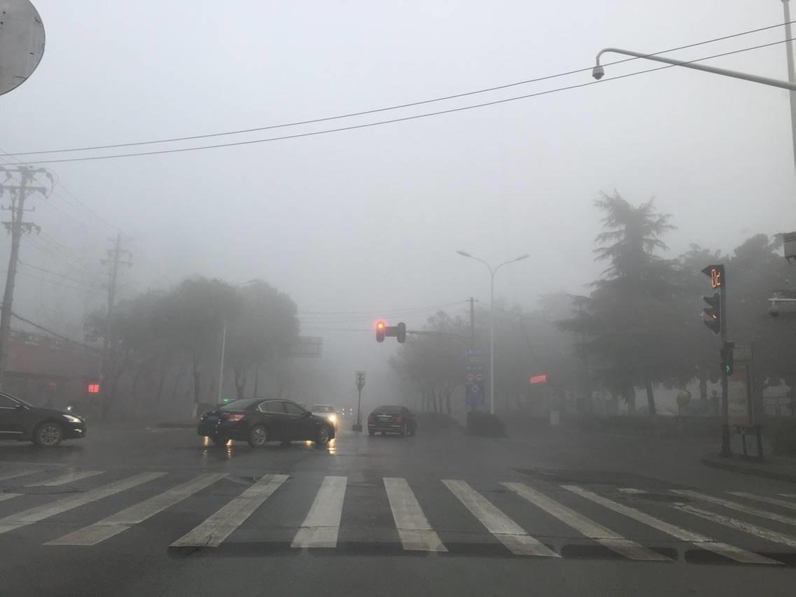car: (197, 394, 338, 450), (1, 392, 90, 450), (366, 404, 419, 439), (307, 401, 338, 435)
